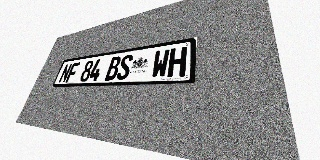4: (88, 58, 104, 81)
8: (79, 60, 95, 82)
B: (104, 56, 122, 80)
F: (65, 62, 80, 83)
H: (167, 46, 187, 77)
N: (58, 63, 73, 83)
S: (116, 54, 134, 80)
W: (151, 49, 170, 78)
